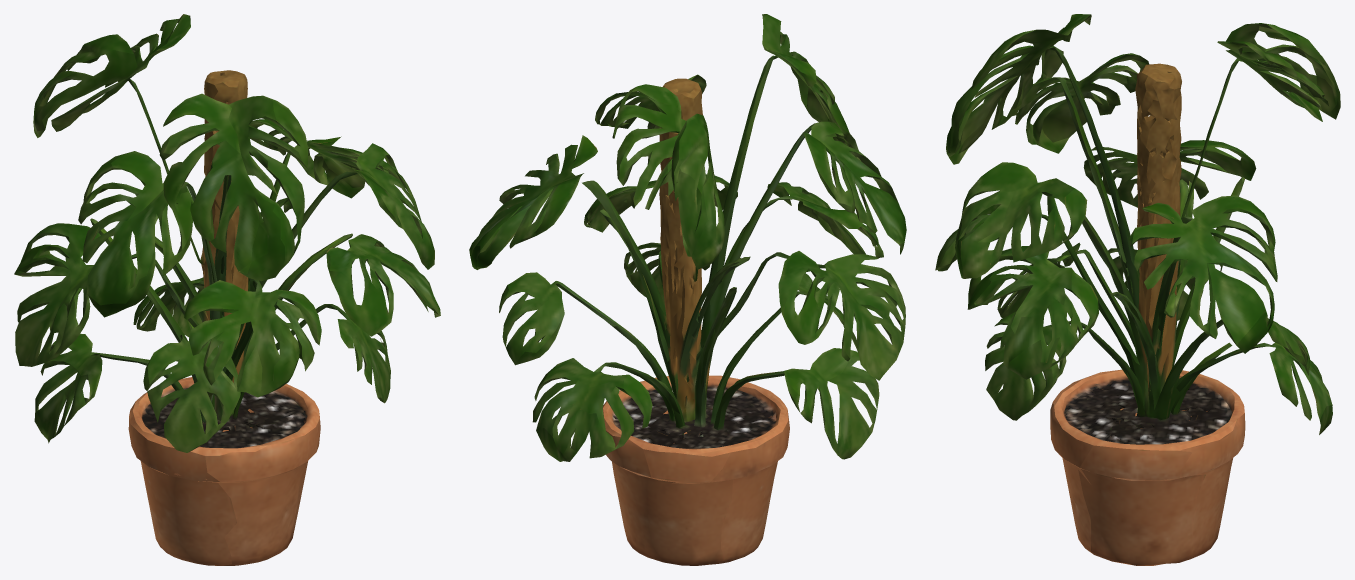
The model's file is plant.glb.
The picture shows the model from 3 angles, left to right: view 1: azimuth 30°, elevation 25°; view 2: azimuth 150°, elevation 25°; view 3: azimuth 270°, elevation 25°; orthographic projection. The views are drawn at different scales.
Visible parts, largest first — view 1: world; view 2: world; view 3: world.
Boxes of the visible parts, x1,y1,x2,y2 form: world: [14, 14, 440, 565]; world: [469, 14, 906, 565]; world: [935, 14, 1340, 565].
Size of the model in its own units: 0.9873 by 1.2 by 0.8795.
Materials: 1 (1 with a texture image).
